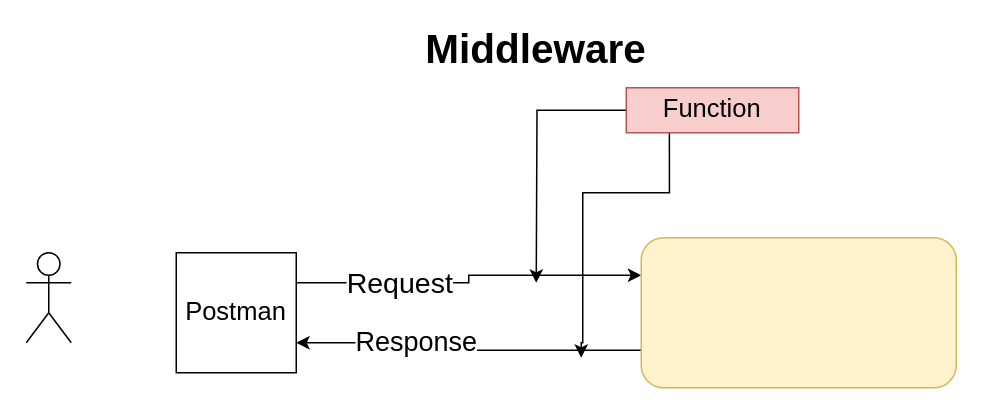
The diagram is 983 pixels wide and 414 high, and some of its shapes have lost their labels. The centre of each missing label's shape, as x and y in pixels:
Actor: (x=48, y=297)
Node JS REST API: (x=798, y=312)
